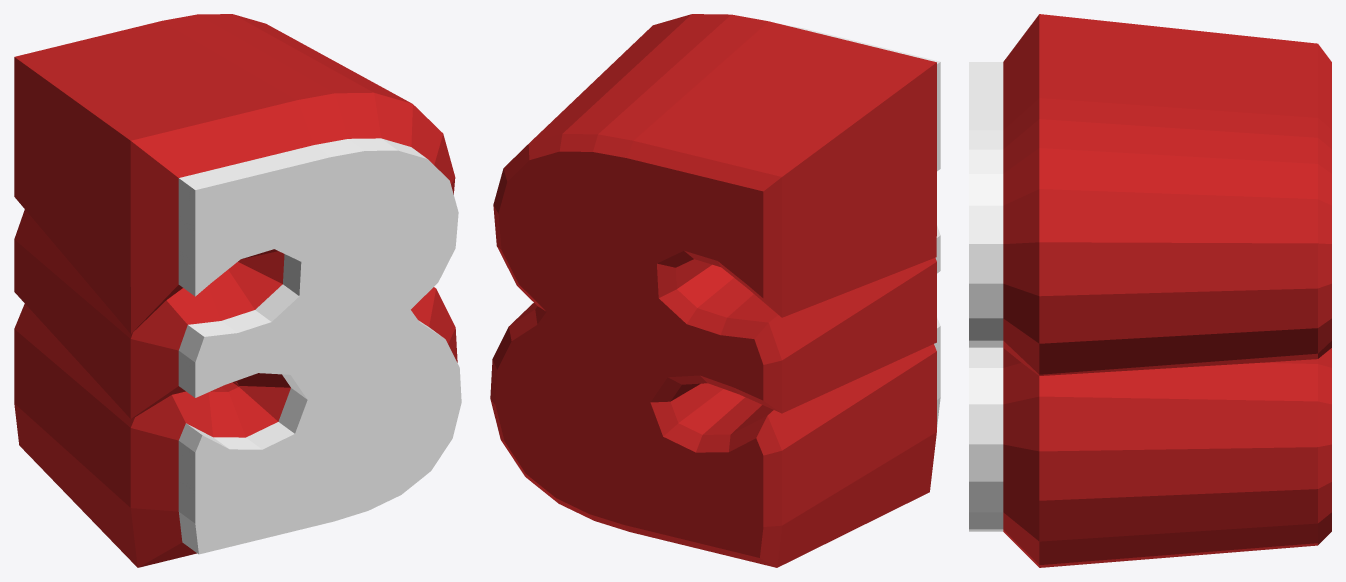
3 renders of one model, left to right at view 1: azimuth 30°, elevation 25°; view 2: azimuth 150°, elevation 25°; view 3: azimuth 270°, elevation 25°, orthographic. The views are drawn at different scales.
Parts seen in each view (by area): view 1: MoText_1; view 2: MoText_1; view 3: MoText_1.
Part boxes in pixels (box(x1,y1,x2,y2)): MoText_1: box(14, 14, 461, 567); MoText_1: box(490, 14, 940, 567); MoText_1: box(969, 14, 1331, 567).
Bounding box in the file's own units: 140 × 175 × 130.
